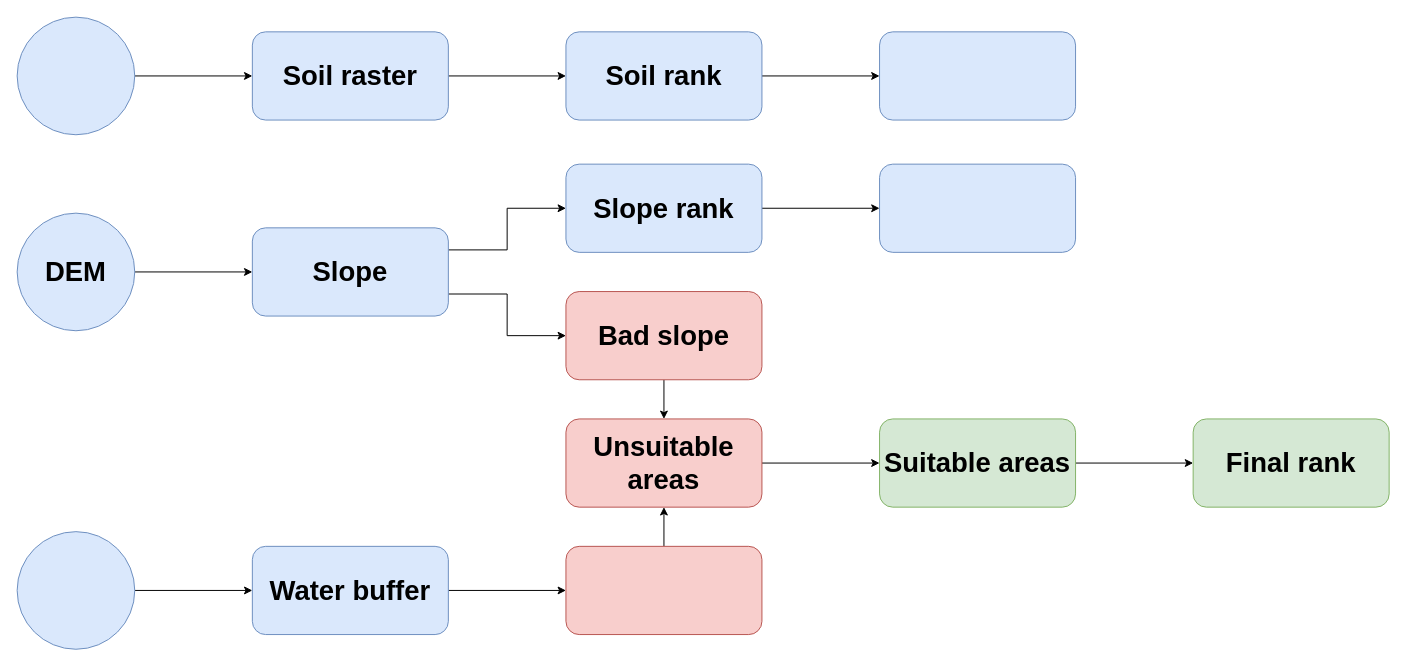
The diagram is 1406 pixels wide and 666 high, and some of its shapes have lost their labels. The shapes that lost their labels are listed below. From the top down, each one's box as (x1, y1, x2, y2) in pixels, then its label:
(16, 16, 135, 135): Soil
(879, 31, 1076, 120): Soil rank x 2
(879, 163, 1076, 252): Soil slope rank
(16, 531, 135, 649): Water
(565, 545, 762, 635): Water buffer raster
